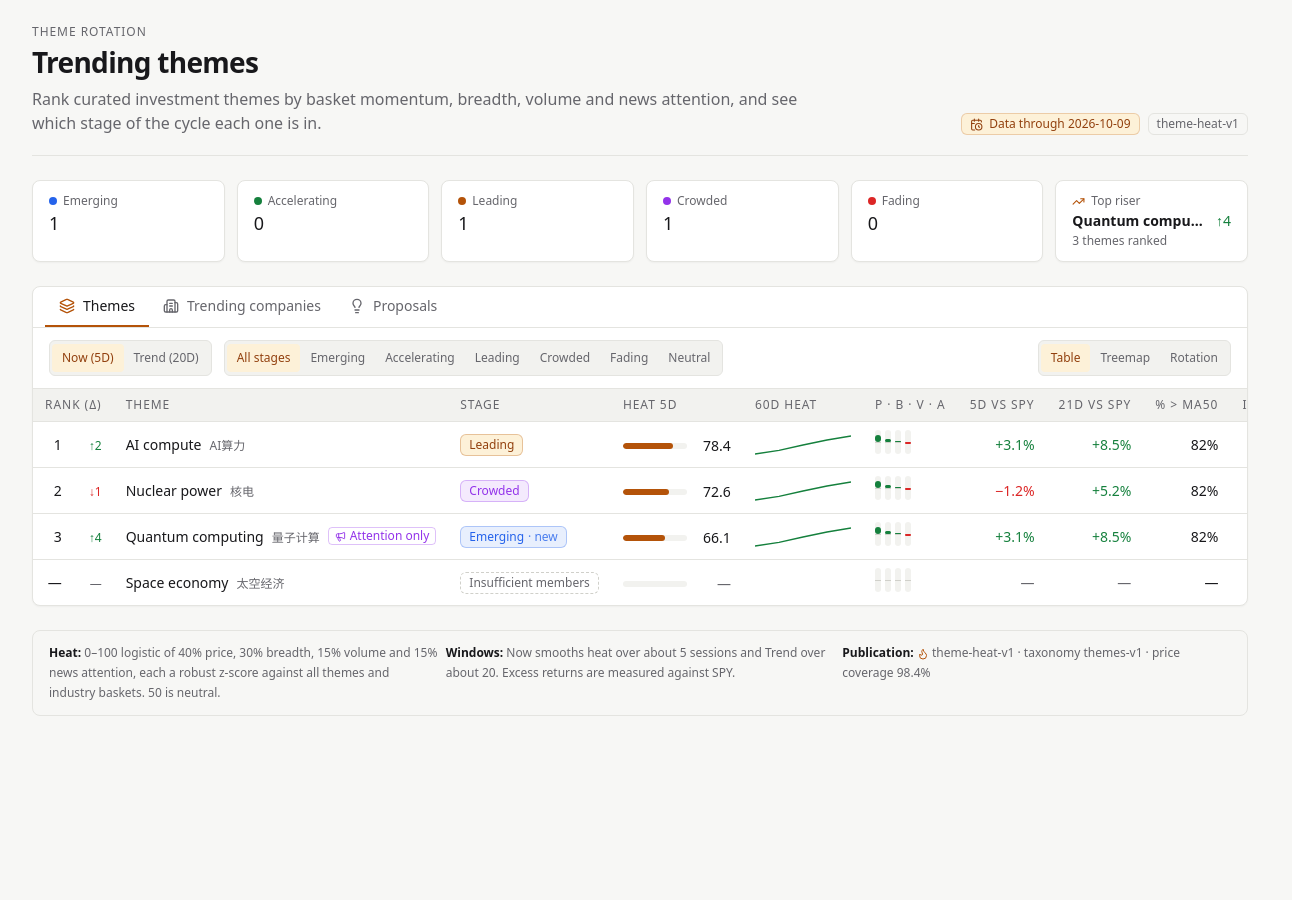
Test case: ThemesPage › relocks when the trending companies request is rejected
The image size is (1292, 900).
Check: the row "AI compute" is shown, box x1=33 y1=422 x2=1247 y2=468
Click the tab "Trending companies": coordinates (242, 307) x1=149 y1=287 x2=335 y2=327
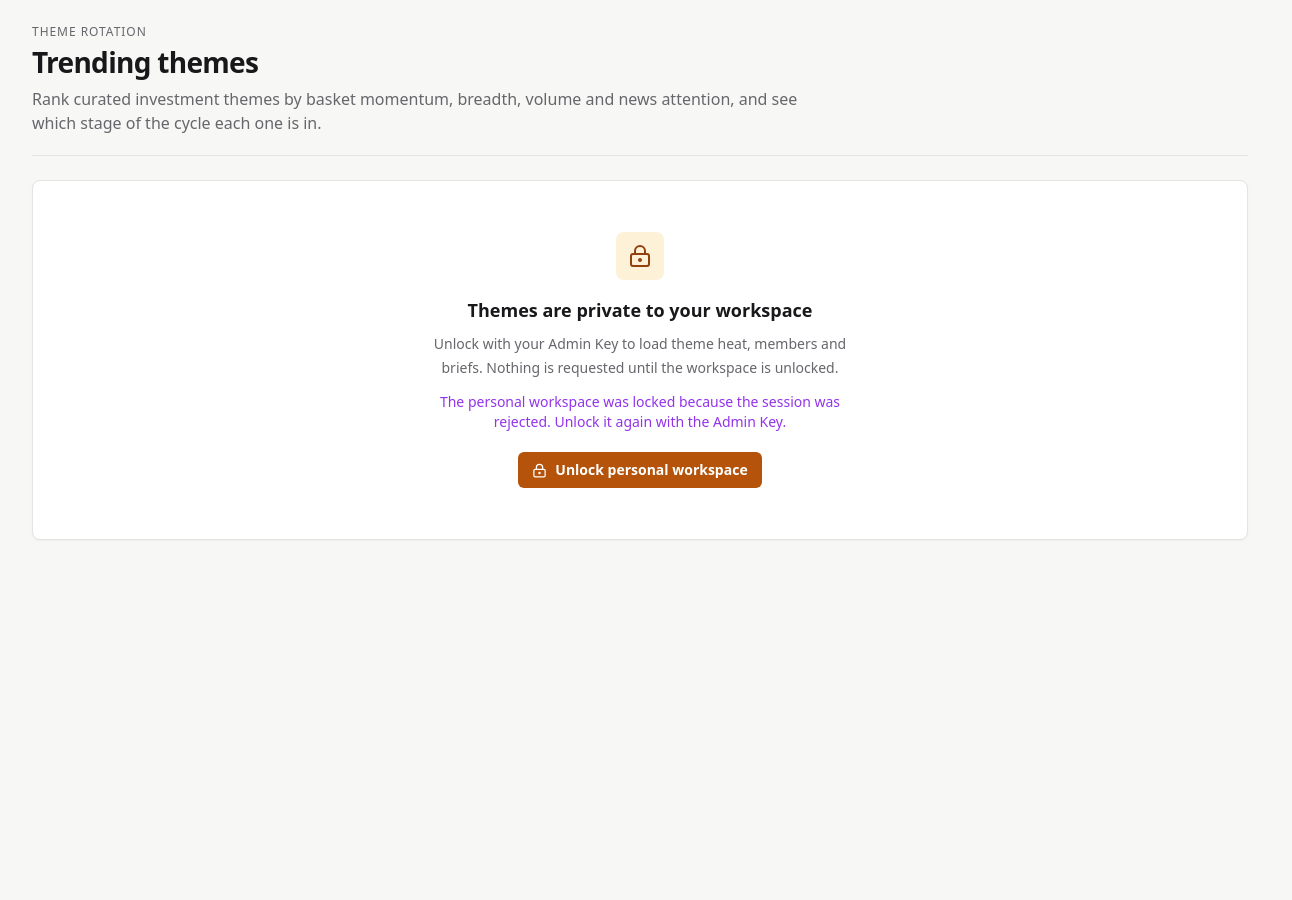
Check: the heading "Themes are private to your workspace" is shown, box x1=468 y1=296 x2=812 y2=324
